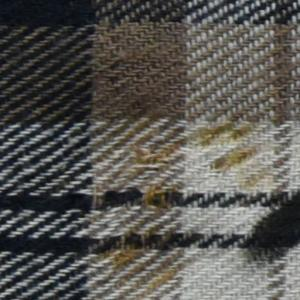Damage: (128, 137, 193, 219)
Oil Stain: (93, 117, 273, 295)
Stain: (236, 185, 300, 274)
